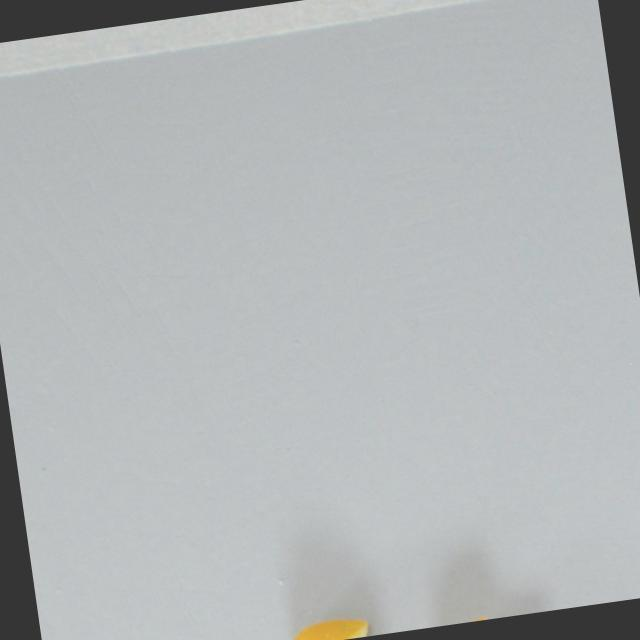dañado: (275, 607, 387, 640)
